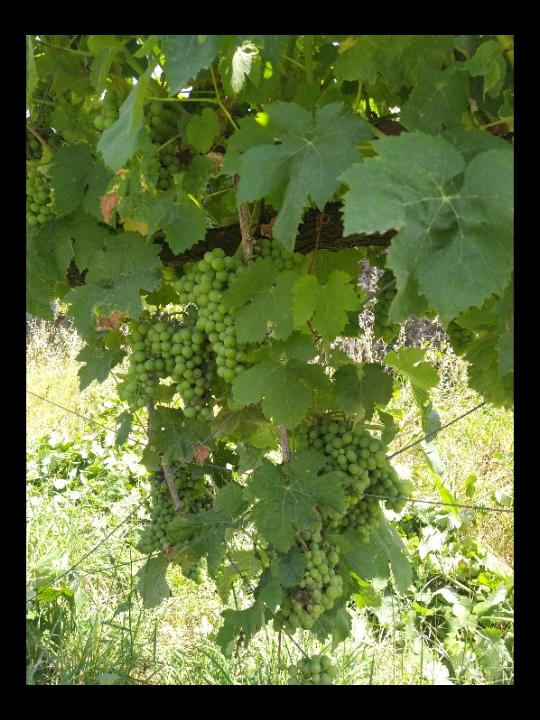grape: (173, 246, 257, 385), (294, 418, 387, 531)
